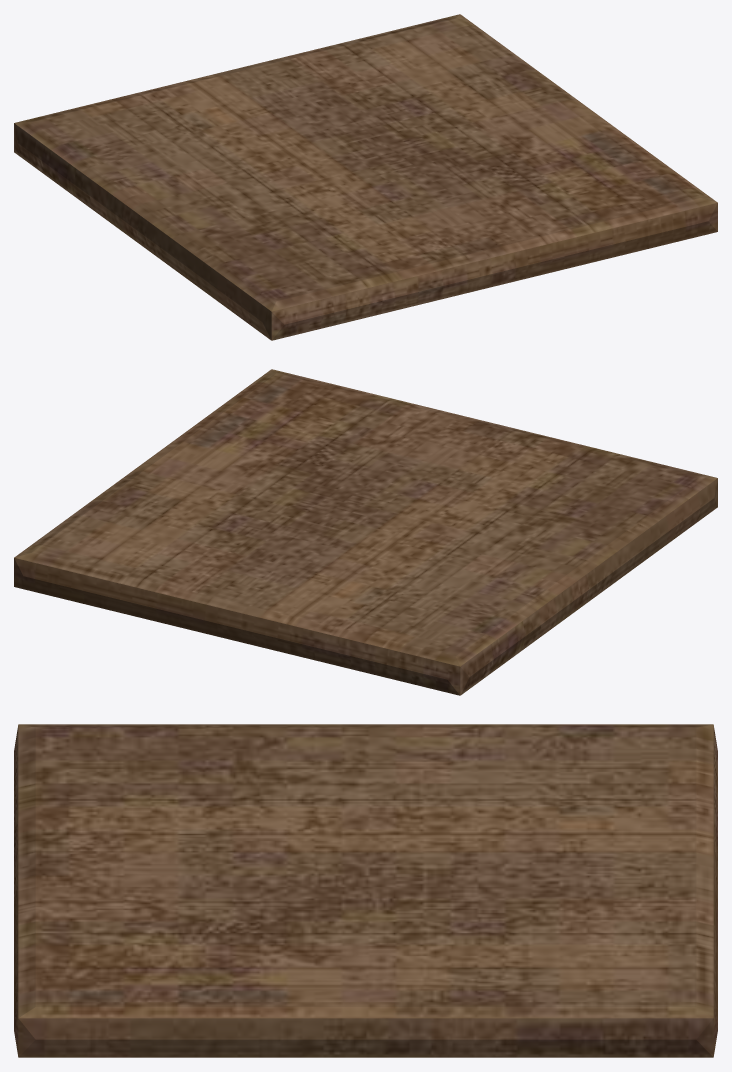
The model's file is floor.glb.
3 views of the same model, one above another, from view 1: azimuth 30°, elevation 25°; view 2: azimuth 150°, elevation 25°; view 3: azimuth 270°, elevation 25° (orthographic). The views are drawn at different scales.
Visible parts, largest first — view 1: floor_wood_slab; view 2: floor_wood_slab; view 3: floor_wood_slab.
Boxes of the visible parts, x1=… form: floor_wood_slab: x1=14, y1=14, x2=717, y2=340; floor_wood_slab: x1=14, y1=369, x2=717, y2=695; floor_wood_slab: x1=14, y1=724, x2=717, y2=1057.
Bounding box in the file's own units: 4.05 × 0.3 × 4.05.
Materials: 1 (1 with a texture image).
